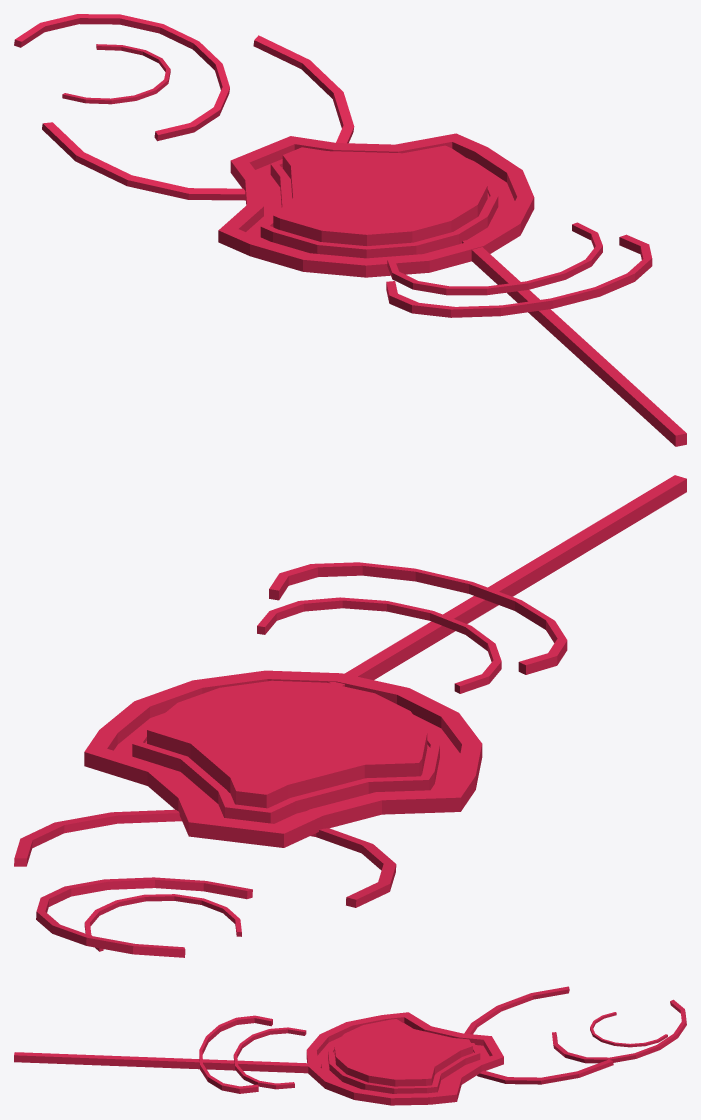
The model's file is amulet04Ground_Mdl_Dec_Z2.fbx.
3 views of the same model, one above another, from view 1: azimuth 30°, elevation 25°; view 2: azimuth 150°, elevation 25°; view 3: azimuth 270°, elevation 25° (orthographic). The views are drawn at different scales.
Visible parts, largest first — view 1: amulet04.001, Cylinder.093, Cube.058, Cylinder.091, Cylinder.095, Cylinder.092, Cylinder.094; view 2: amulet04.001, Cube.058, Cylinder.091, Cylinder.093, Cylinder.095, Cylinder.092, Cylinder.094; view 3: amulet04.001, Cube.058, Cylinder.093, Cylinder.091, Cylinder.095, Cylinder.092, Cylinder.094.
Part boxes in pixels (x1=…): amulet04.001: x1=218, y1=133, x2=534, y2=277; Cylinder.093: x1=42, y1=35, x2=354, y2=200; Cube.058: x1=462, y1=239, x2=686, y2=446; Cylinder.091: x1=386, y1=234, x2=652, y2=317; Cylinder.095: x1=14, y1=14, x2=229, y2=141; Cylinder.092: x1=387, y1=222, x2=602, y2=295; Cylinder.094: x1=62, y1=44, x2=170, y2=104; amulet04.001: x1=84, y1=670, x2=482, y2=847; Cube.058: x1=329, y1=475, x2=686, y2=686; Cylinder.091: x1=269, y1=562, x2=567, y2=674; Cylinder.093: x1=14, y1=809, x2=396, y2=907; Cylinder.095: x1=36, y1=877, x2=252, y2=957; Cylinder.092: x1=257, y1=597, x2=501, y2=693; Cylinder.094: x1=84, y1=894, x2=241, y2=951; amulet04.001: x1=306, y1=1012, x2=503, y2=1105; Cube.058: x1=14, y1=1052, x2=321, y2=1073; Cylinder.093: x1=464, y1=986, x2=613, y2=1084; Cylinder.091: x1=199, y1=1015, x2=272, y2=1093; Cylinder.095: x1=552, y1=999, x2=686, y2=1063; Cylinder.092: x1=233, y1=1027, x2=306, y2=1089; Cylinder.094: x1=590, y1=1012, x2=667, y2=1047.
Size of the model in its own units: 27.22 by 3.86 by 77.68.
